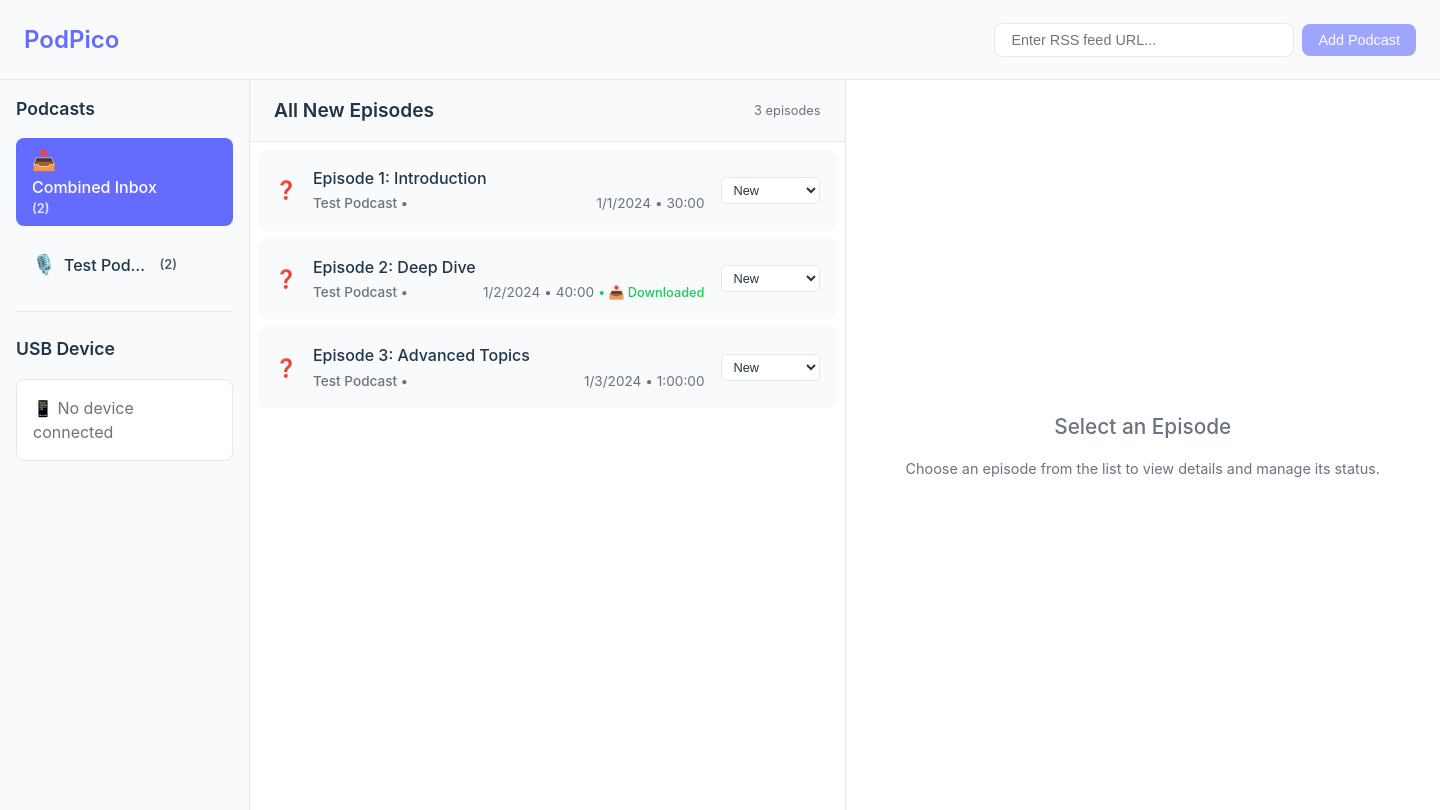
Test: User Story #3: Download Episodes - End-to-End Integration Tests › Error Handling Integration › should allow retry after download failure
The width and height of the screenshot is (1440, 810).
Check: the heading "PodPico" is shown, box [24,22,119,58]
Click the text "Test Podcast" at (108, 265), box [64,253,152,277]
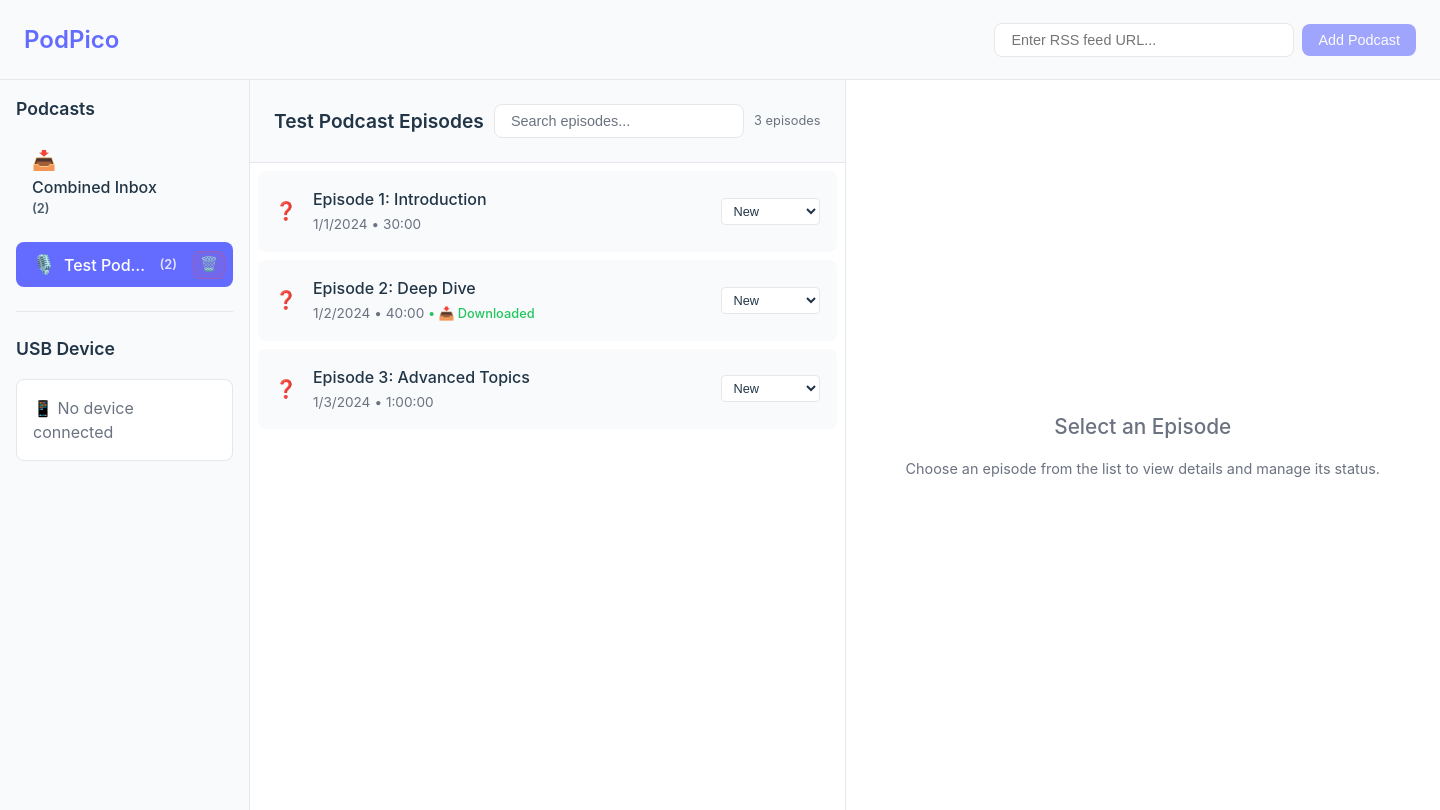
Click the heading "Episode 1: Introduction" at (400, 199), box [313,189,487,209]
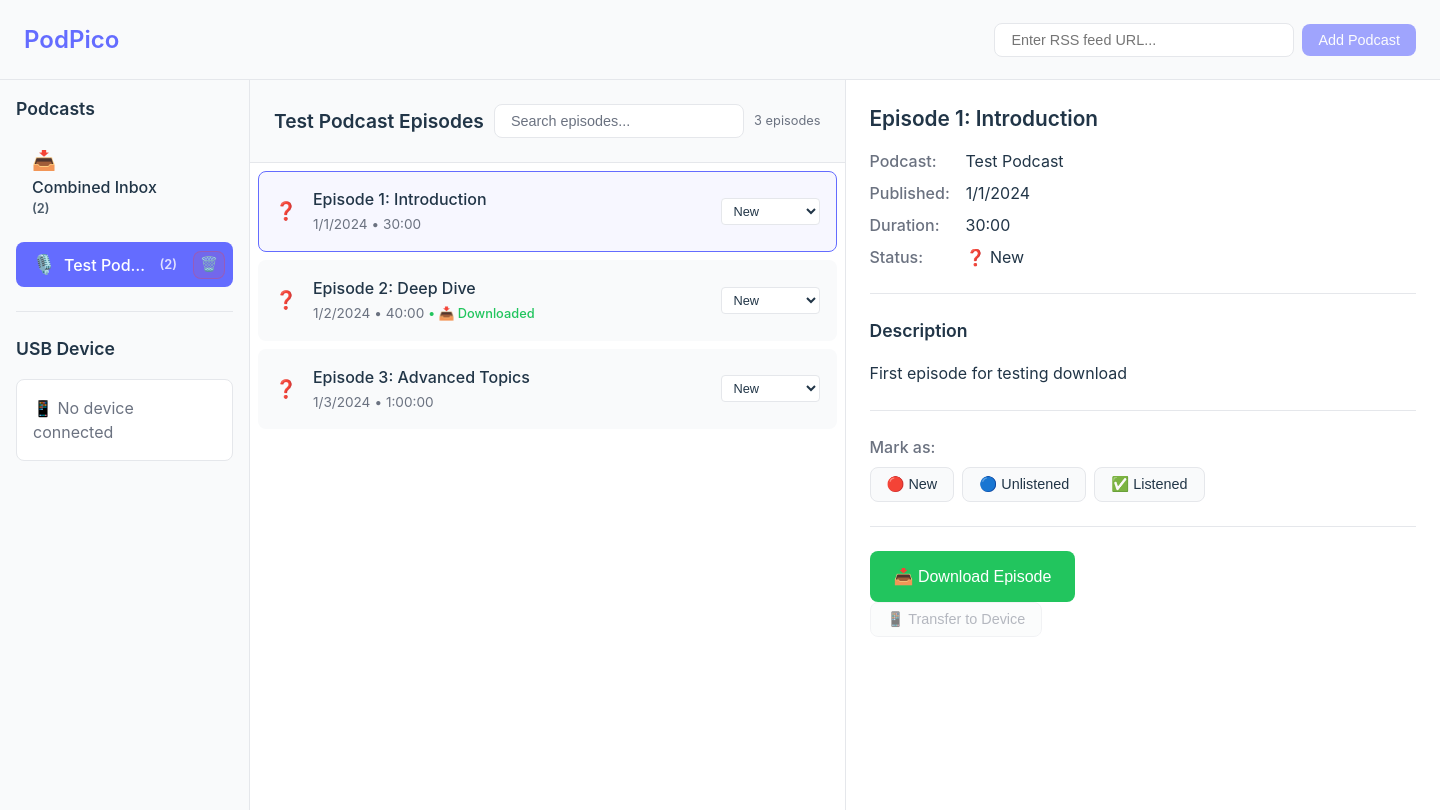
First attempt - should fail
Click the button "📥 Download Episode" at (972, 577), box [870,551,1075,602]
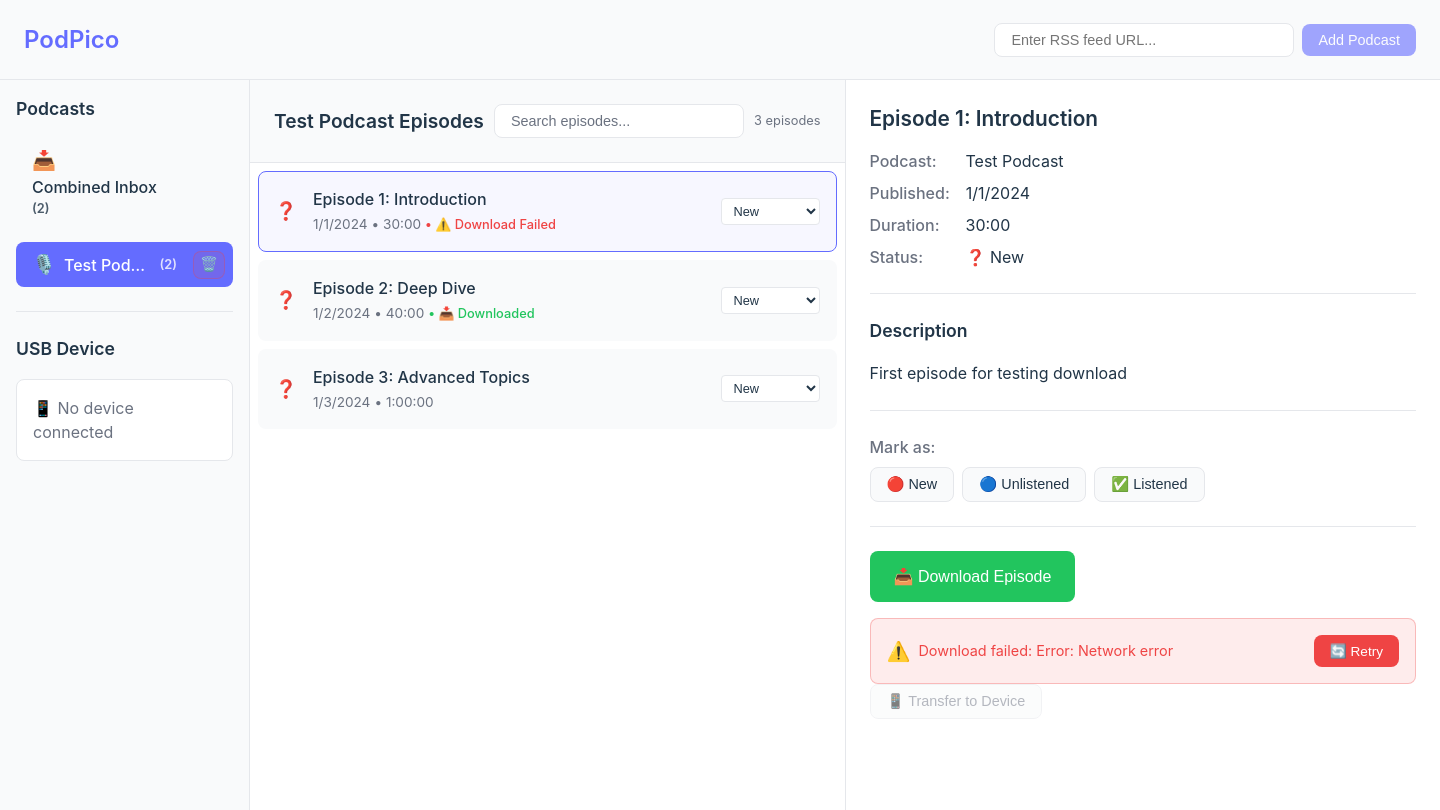
Check: the text "Download failed: Error: Network error" is shown, box [918,642,1173,659]
Retry - should succeed
Click the button with test id "download-retry-button" at (1356, 651), box [1314,635,1399,667]
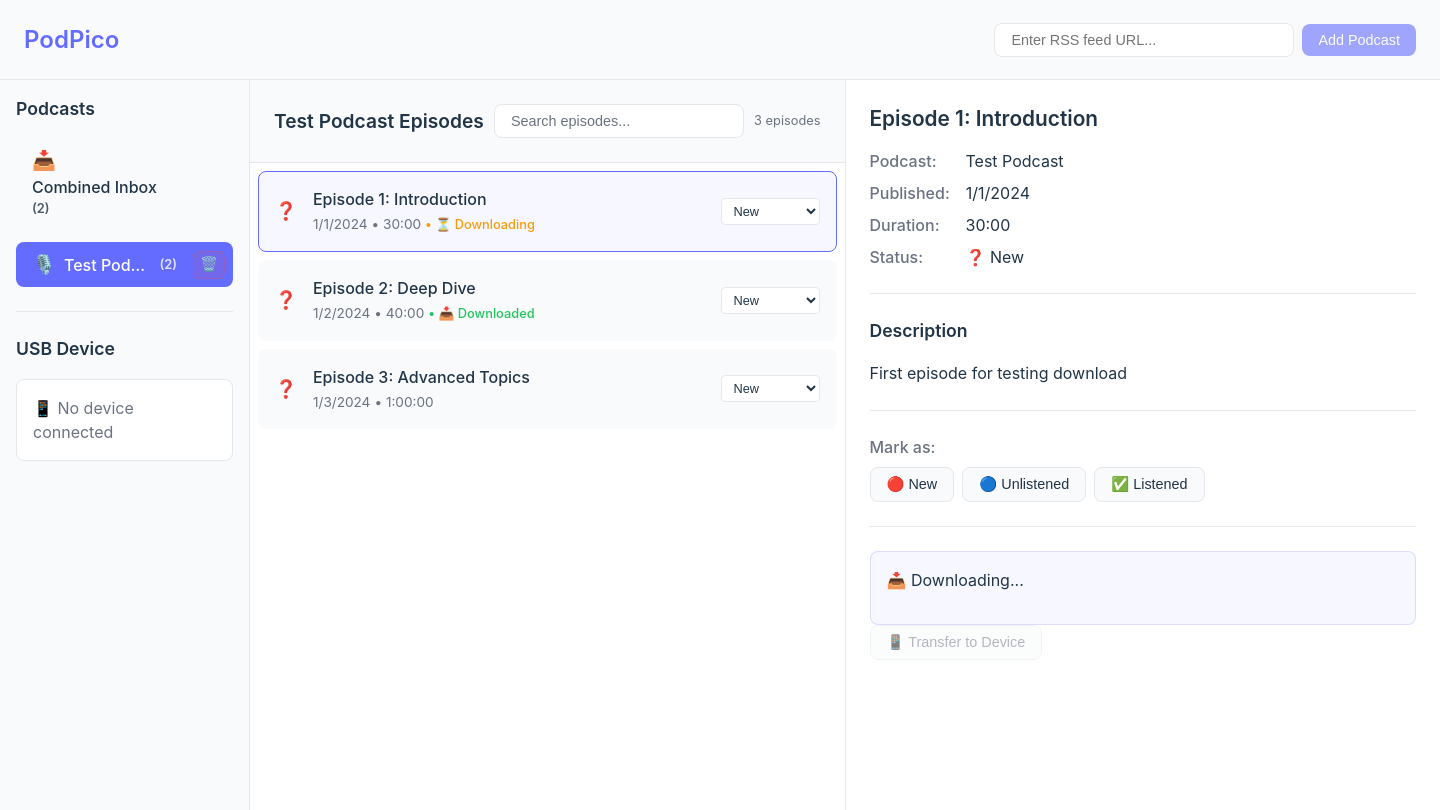
Check: the text "📥 Downloading..." is shown, box [886,568,1024,592]
